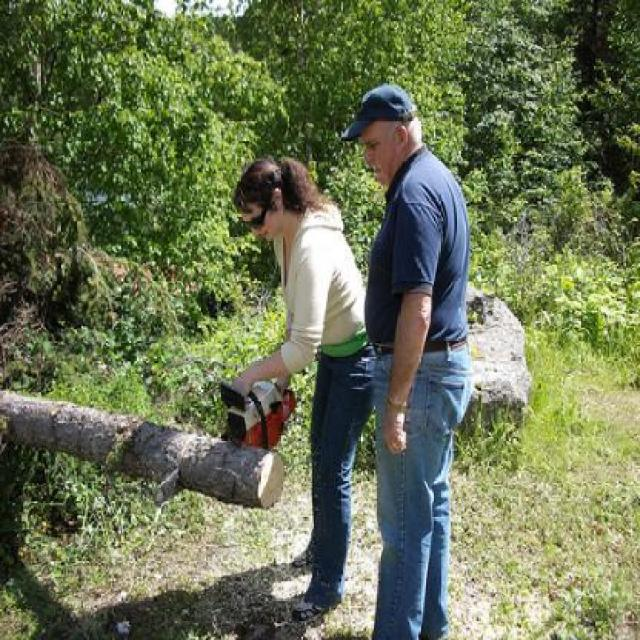Chainsaw: (154, 384, 297, 507)
